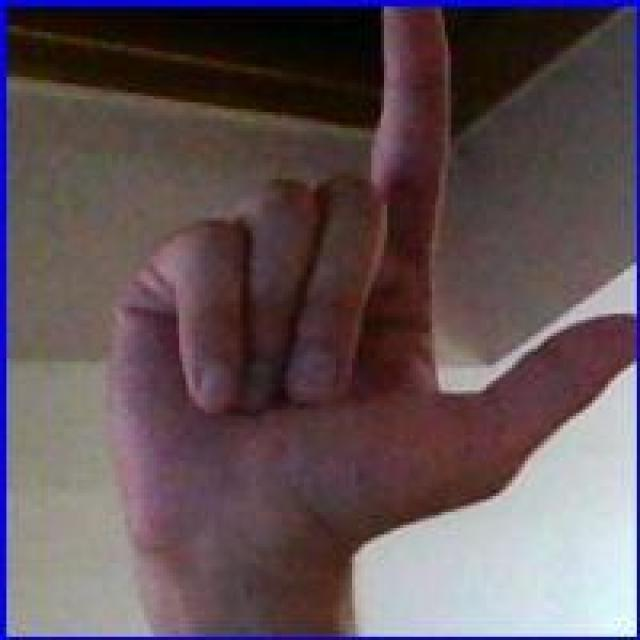L: (79, 8, 636, 613)
